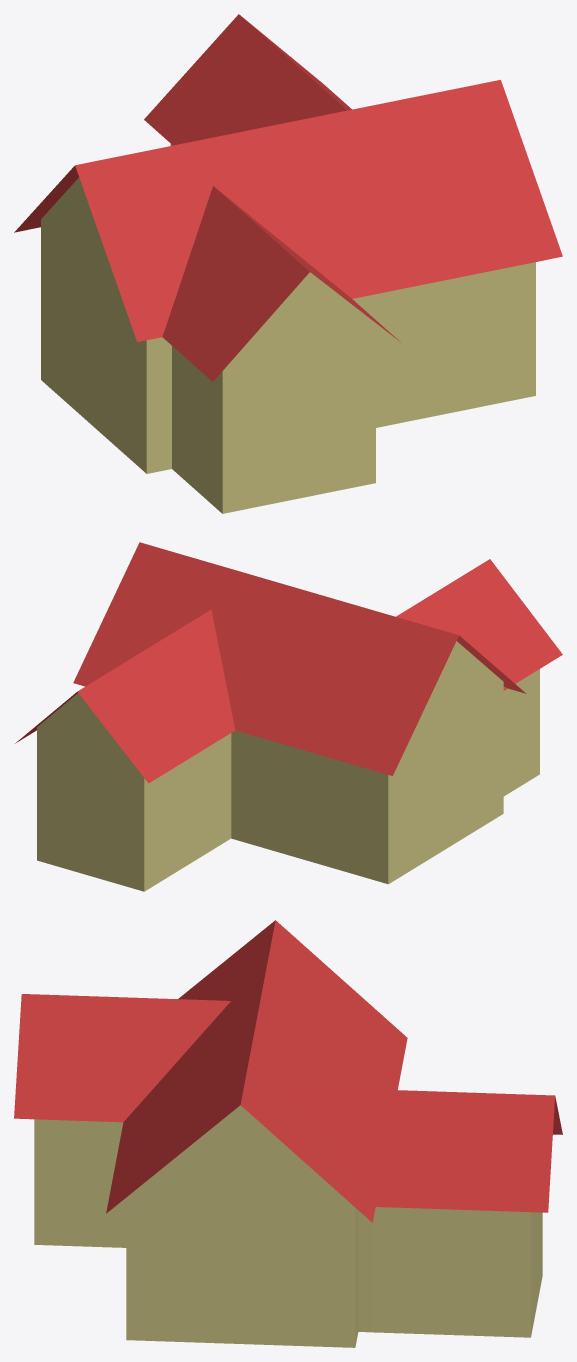
3 renders of one model, top to bottom at view 1: azimuth 30°, elevation 25°; view 2: azimuth 150°, elevation 25°; view 3: azimuth 270°, elevation 25°, orthographic. The views are drawn at different scales.
Bounding box in the file's own units: 18.27 × 21.85 × 10.84.
